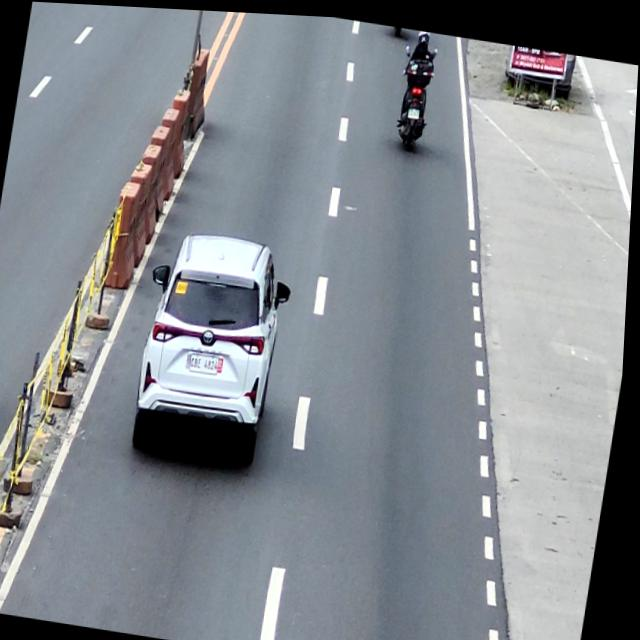Car: (127, 224, 300, 470)
License-Plate: (191, 349, 223, 373), (407, 103, 421, 115)
Motorcycle: (391, 39, 438, 148)
